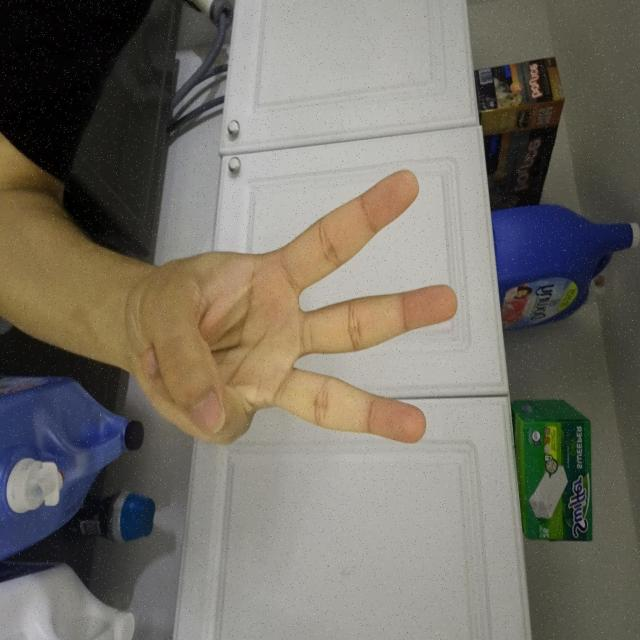W: (284, 239, 496, 640)
